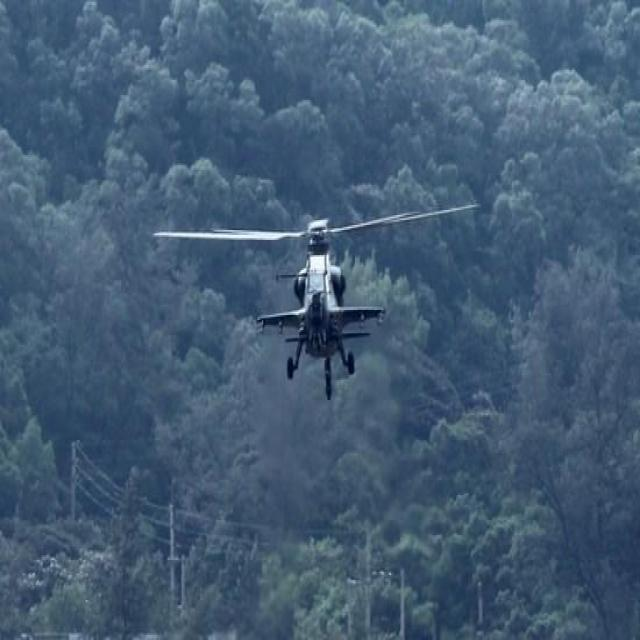MIL_HELO: (144, 180, 502, 404)
